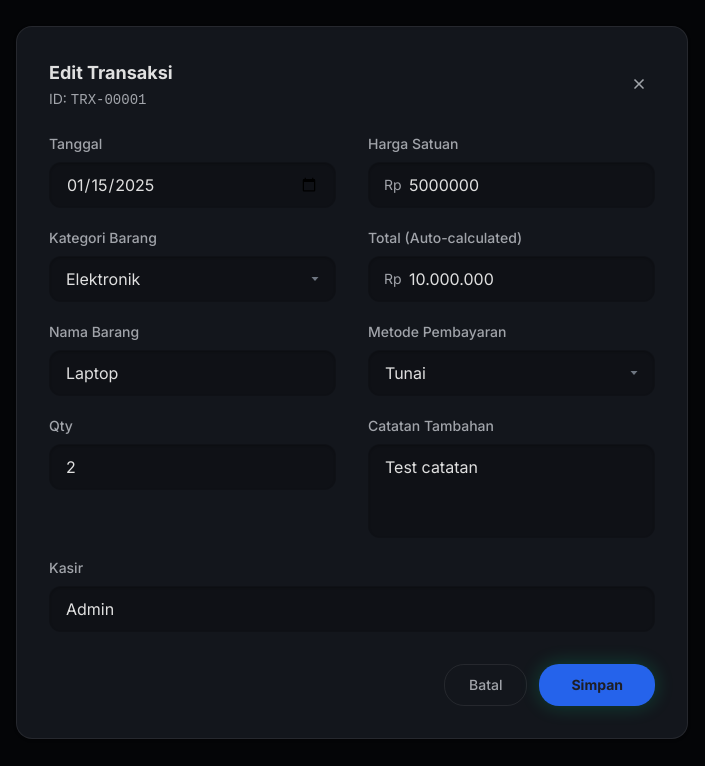
Test case: Task 9 — Unit Tests: EditTransactionModal › 9.7: tombol Simpan disabled ketika hargaSatuan < 0 setelah submit
Replace the text in the number field with id "edit-hargaSatuan" with "-1" at (512, 184), box [368,162,655,208]
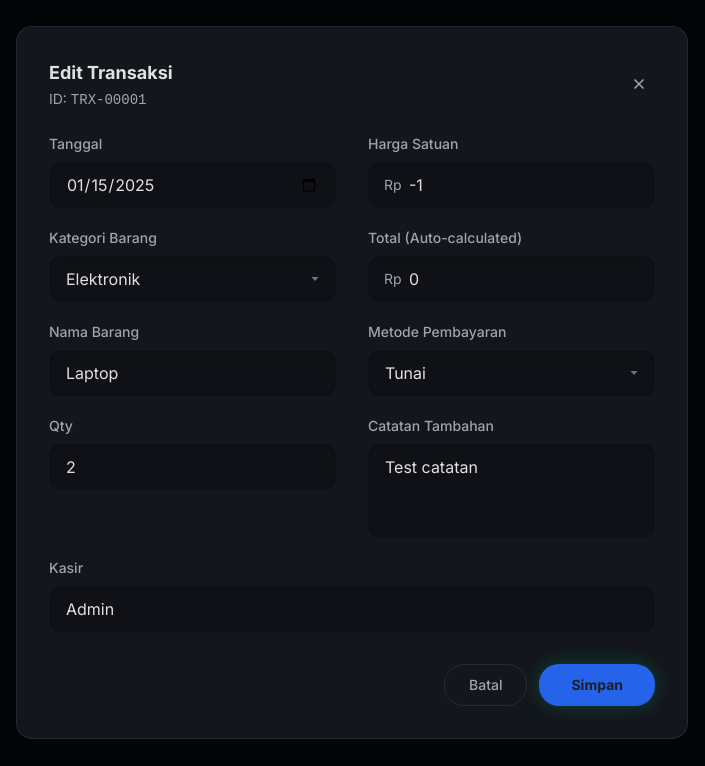
// Submit form untuk trigger validasi
Submit the form with id "form-edit-transaksi"
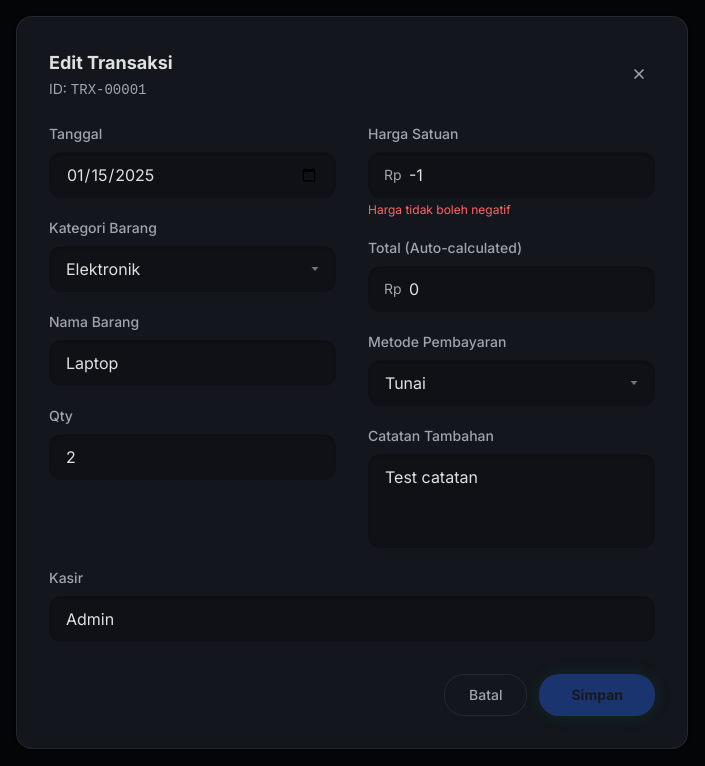
Expected: the button "Simpan" is disabled, [540,674,655,716]
